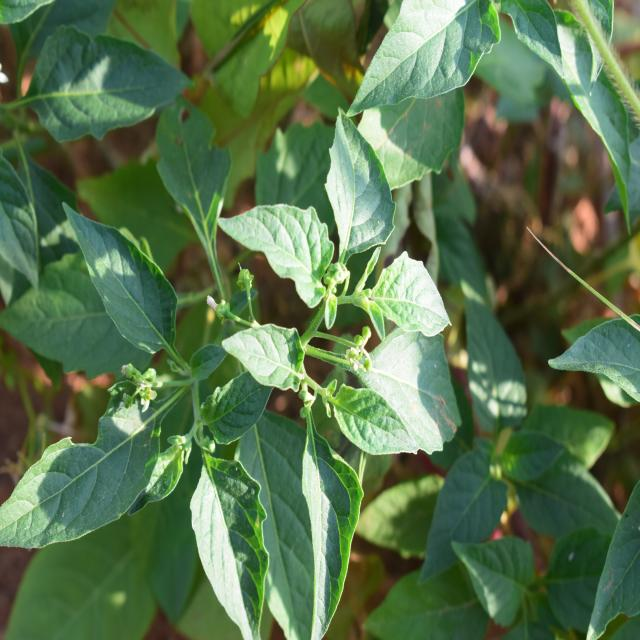Black_nightshade: (63, 119, 436, 609)
